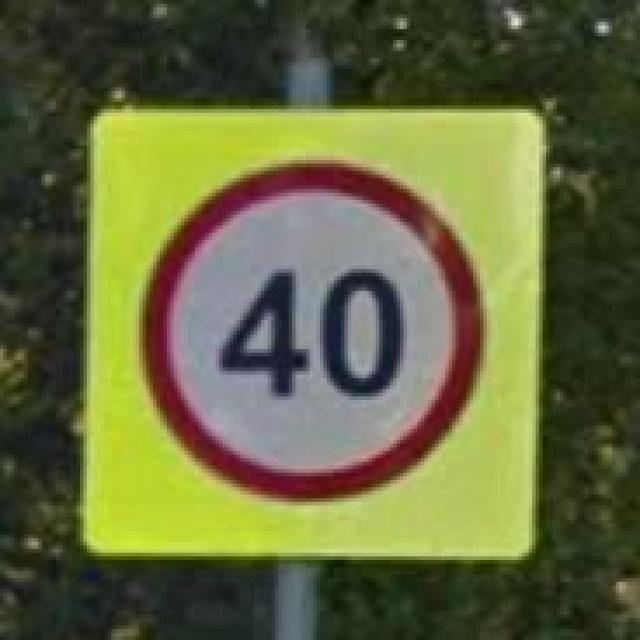traffic_sign: (136, 156, 490, 509)
